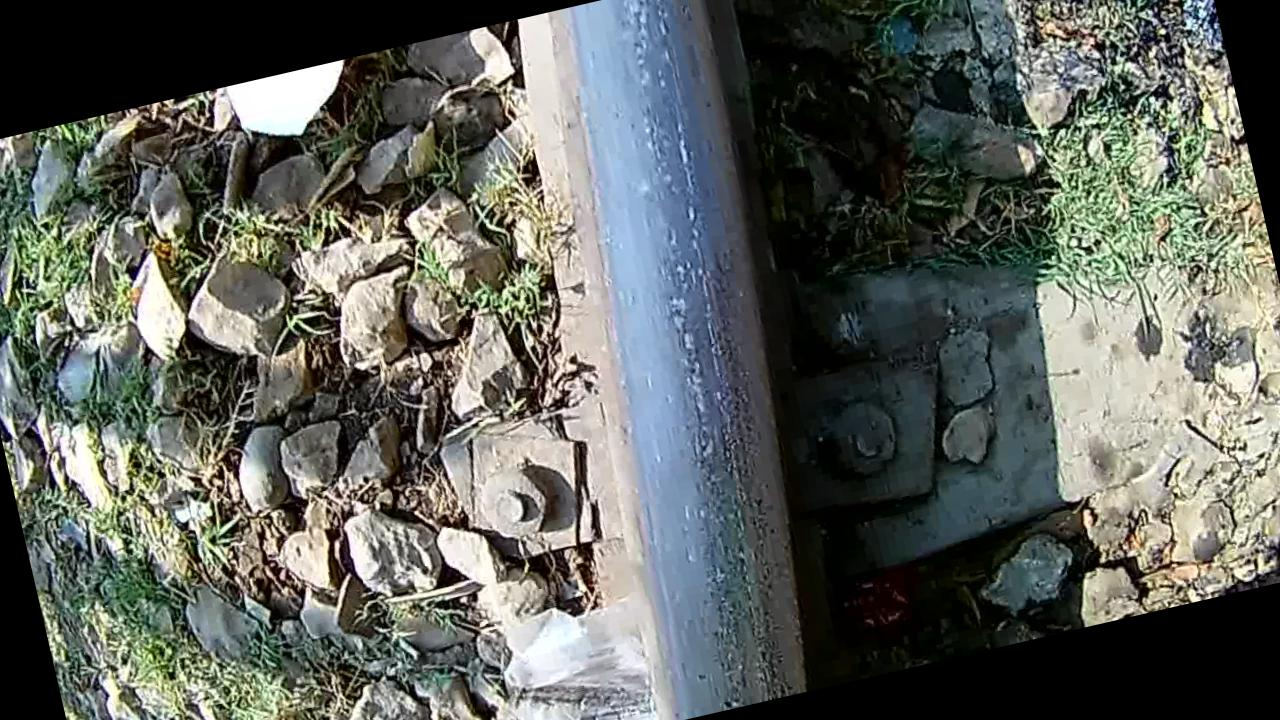clip_missing: (536, 0, 838, 715)
